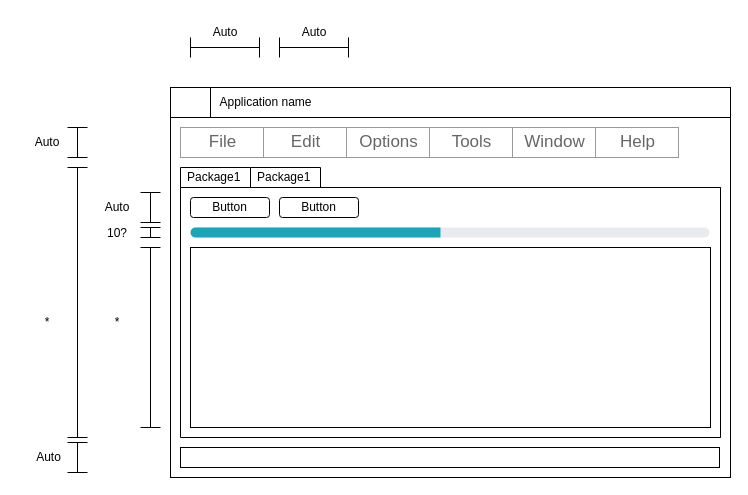
Some shapes in this 748 by 495 pixel diagram are drawn without their labels. The shapes that lost their labels are listed below. From the top down, each one's centre as x and y in pixels, then its label:
At [190,102]: "Icon".
At [450,337]: "Rich Text Box(Log)".
At [450,457]: "Status Bar".
